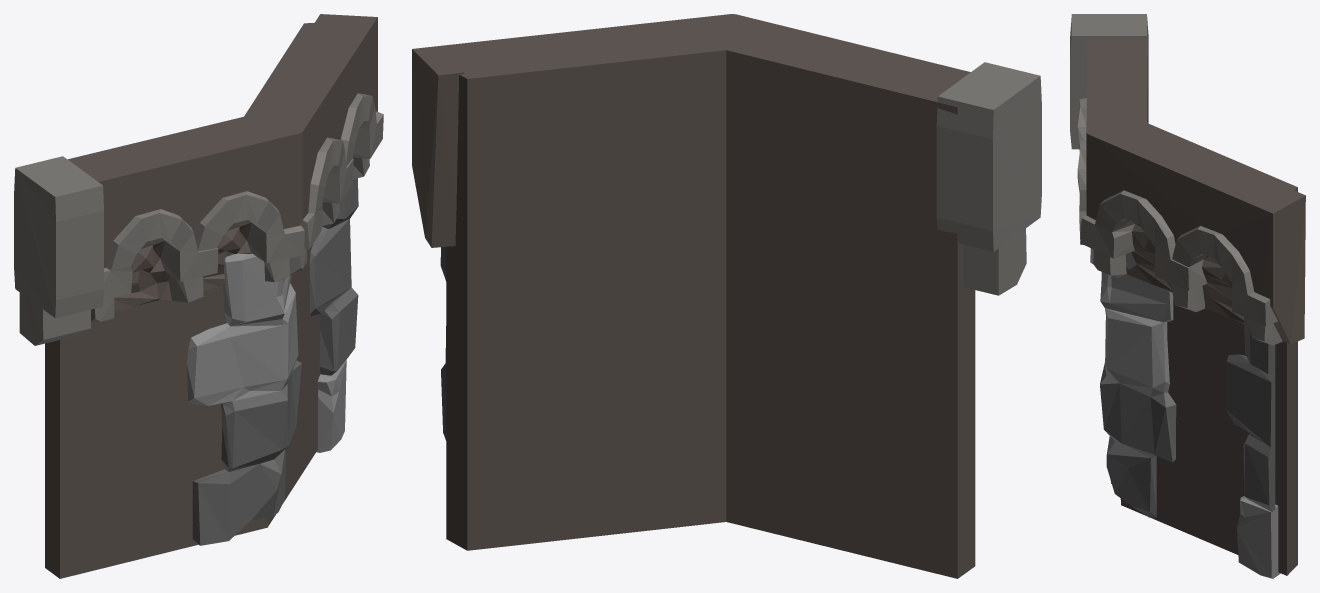
File: MCastle_OctWalls_ArchCarbels_02.FBX
The picture shows the model from 3 angles, left to right: view 1: azimuth 30°, elevation 25°; view 2: azimuth 150°, elevation 25°; view 3: azimuth 270°, elevation 25°; orthographic projection. The views are drawn at different scales.
Visible parts, largest first — view 1: MCastle_OctWalls_ArchCarbels_02_LOD0; view 2: MCastle_OctWalls_ArchCarbels_02_LOD0; view 3: MCastle_OctWalls_ArchCarbels_02_LOD0.
Boxes of the visible parts, bbox=[...] form: MCastle_OctWalls_ArchCarbels_02_LOD0: bbox=[14, 14, 383, 578]; MCastle_OctWalls_ArchCarbels_02_LOD0: bbox=[412, 14, 1041, 578]; MCastle_OctWalls_ArchCarbels_02_LOD0: bbox=[1070, 14, 1305, 578].
Size of what is drawn, in the model's own units: 197 by 179 by 99.37.
